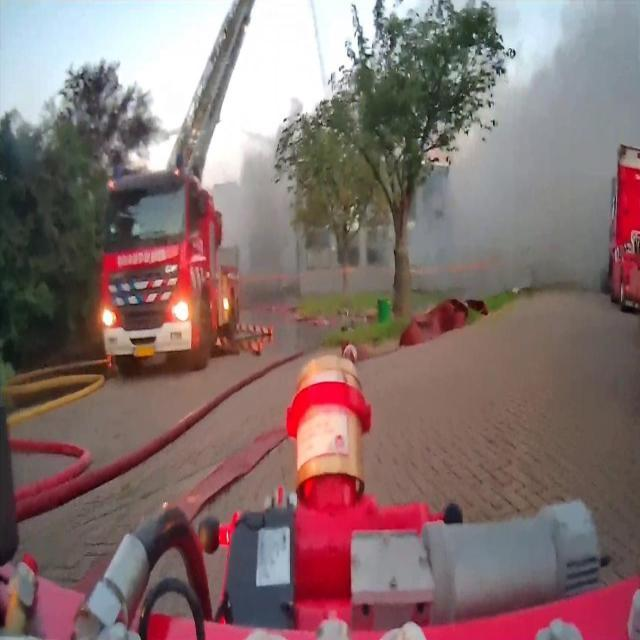Smoke: (433, 0, 640, 295), (212, 94, 304, 302)
